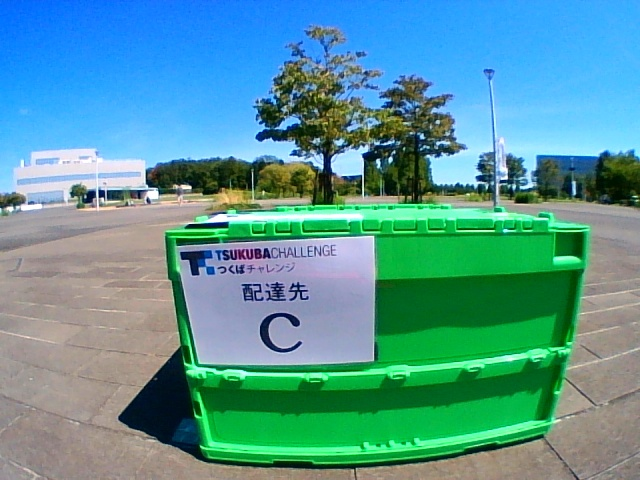green_box: (165, 202, 589, 464)
tag_c: (199, 245, 371, 363)
